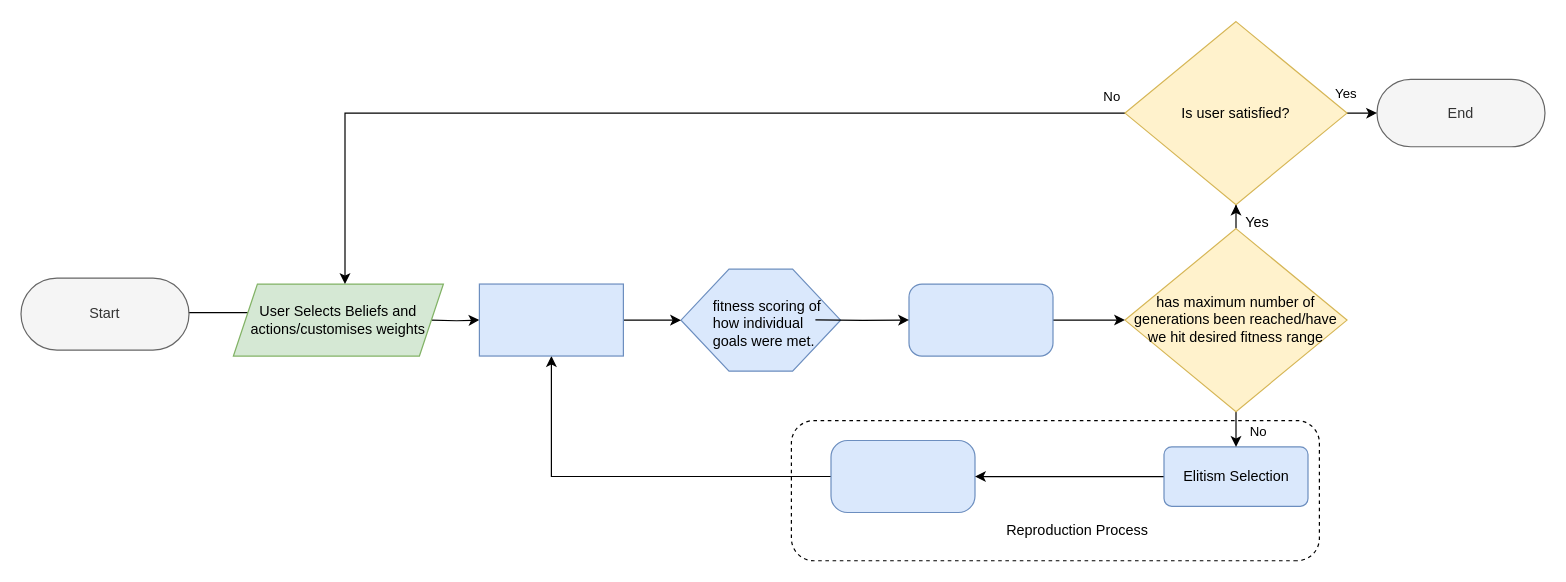
This 1566x582 diagram has some shape labels left out. The box of each missing label's shape, as (x1, y1, x2, y2) in pixels:
Elitism reproduction (crossover/mutation): (830, 439, 975, 513)
Evaluation/Simulation: (478, 283, 623, 356)
generation of true fitness:harmonic mean of goal fitness.: (908, 283, 1053, 356)
